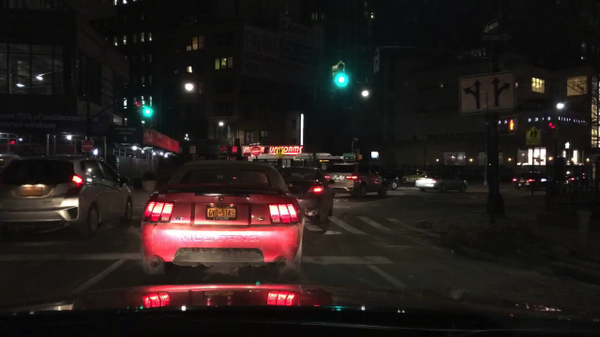car: (140, 161, 304, 280), (0, 155, 135, 238), (275, 166, 335, 221), (323, 162, 388, 199), (415, 171, 468, 193), (512, 172, 556, 191), (374, 171, 399, 191), (561, 172, 591, 186), (401, 170, 427, 185), (481, 32, 510, 42), (481, 20, 499, 34)
traffic light: (337, 63, 346, 85), (508, 118, 518, 133), (331, 65, 338, 83), (145, 103, 152, 119), (549, 123, 556, 137), (93, 148, 99, 155), (565, 142, 570, 149)
traffic sign: (458, 70, 515, 117), (525, 126, 541, 146), (135, 101, 143, 118), (250, 146, 261, 157), (81, 140, 91, 152), (343, 153, 355, 162), (276, 147, 285, 158), (248, 142, 262, 146), (189, 146, 196, 154)
